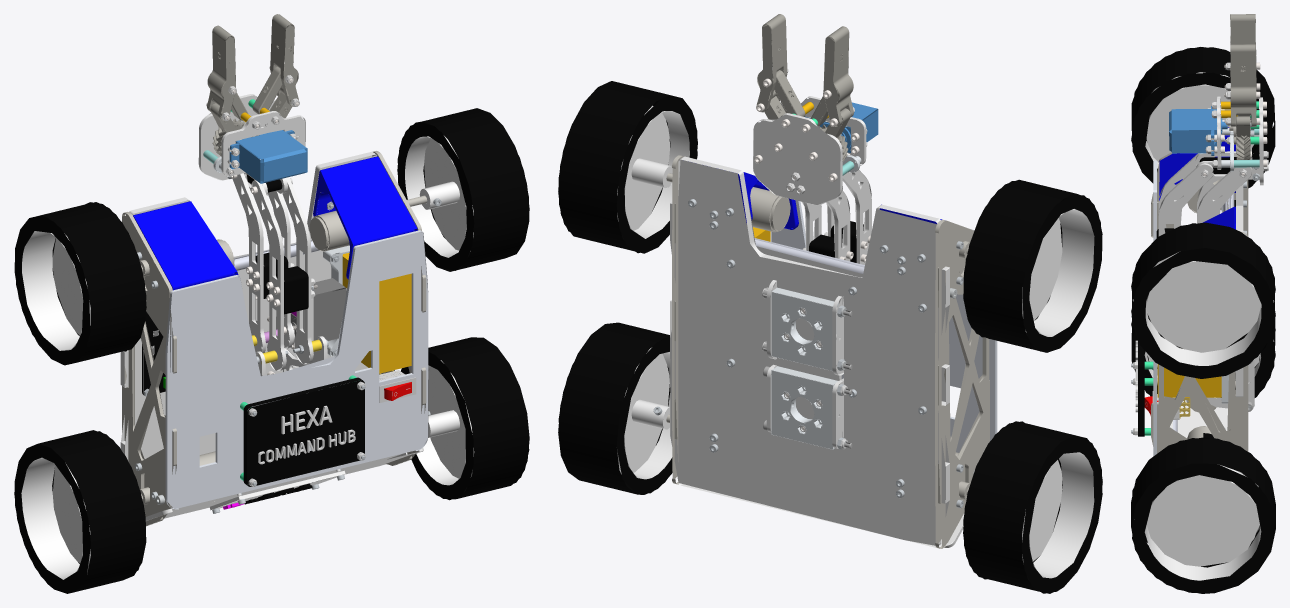
Rendered from nrlbot.glb.
3 views of the same model, side by side, from view 1: azimuth 30°, elevation 25°; view 2: azimuth 150°, elevation 25°; view 3: azimuth 270°, elevation 25° (orthographic). The views are drawn at different scales.
Visible parts, largest first — view 1: Part 1 (×5), Top Plate, Hexa Command Hub, Drive Side Plate (×2), Arm-Link (×4), Squad Marker Right, Squad Marker Left, Drive Base, Battery, Servo Motor, Gripper Finger L, Servo MG996R (+8 smaller); view 2: Part 1 (×4), Drive Base, Drive Side Plate (×2), Base Block (×2), Gripper Base, Top Plate, Arm-Link (×2), Gripper Finger L, Gripper Finger R, DC Motor, Connector Rod, Servo Motor (+4 smaller); view 3: Part 1 (×4), Drive Side Plate (×2), Arm-Link (×4), Servo Motor, Gripper Finger R, Battery, Gripper Finger L, Squad Marker Left, Hexa Command Hub, Drive Back, Top Plate, Follower Helical Gear (+11 smaller).
Part boxes in pixels (x1,y1,x2,y2): Part 1 (×5): (14, 108, 529, 593); Top Plate: (165, 230, 428, 509); Hexa Command Hub: (243, 377, 364, 486); Drive Side Plate (×2): (122, 151, 426, 526); Arm-Link (×4): (232, 173, 313, 370); Squad Marker Right: (313, 156, 417, 279); Squad Marker Left: (133, 201, 238, 290); Drive Base: (120, 151, 377, 507); Battery: (342, 252, 411, 373); Servo Motor: (229, 130, 307, 183); Gripper Finger L: (207, 25, 235, 120); Servo MG996R: (291, 278, 346, 340); Part 1 (×4): (558, 81, 1102, 593); Drive Base: (670, 156, 949, 547); Drive Side Plate (×2): (672, 155, 989, 548); Base Block (×2): (771, 287, 838, 449); Gripper Base: (753, 113, 842, 205); Top Plate: (771, 200, 997, 452); Arm-Link (×2): (826, 169, 871, 264); Gripper Finger L: (823, 26, 853, 126); Gripper Finger R: (756, 14, 787, 112); DC Motor: (666, 173, 790, 232); Connector Rod: (754, 238, 864, 273); Servo Motor: (804, 102, 878, 152); Part 1 (×4): (1131, 47, 1275, 593); Drive Side Plate (×2): (1151, 152, 1248, 453); Arm-Link (×4): (1158, 153, 1251, 236); Servo Motor: (1169, 106, 1227, 155); Gripper Finger R: (1230, 44, 1256, 126); Battery: (1157, 364, 1221, 397); Gripper Finger L: (1230, 14, 1256, 91); Squad Marker Left: (1159, 127, 1235, 200); Hexa Command Hub: (1135, 340, 1144, 436); Drive Back: (1170, 400, 1227, 437); Top Plate: (1153, 160, 1156, 456); Follower Helical Gear: (1233, 116, 1250, 159).
Bounding box in the file's own units: 0.3718 × 0.4016 × 0.113.
